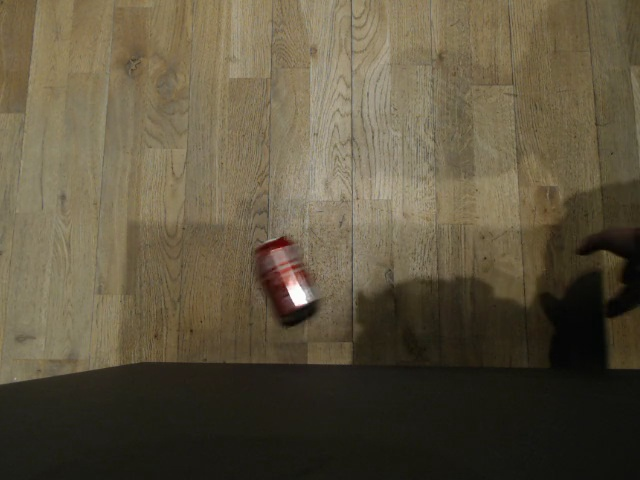cola: (253, 233, 317, 318)
